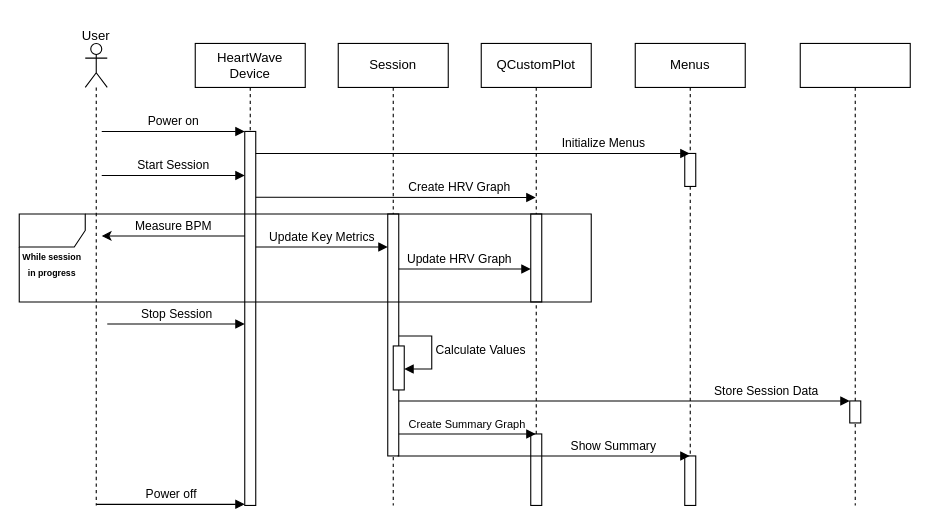
Some shapes in this 930 by 532 pixel diagram are drawn without their labels. Each missing label, with the box of its shape:
Database: (799, 42, 910, 505)
Loop: (18, 213, 591, 302)
